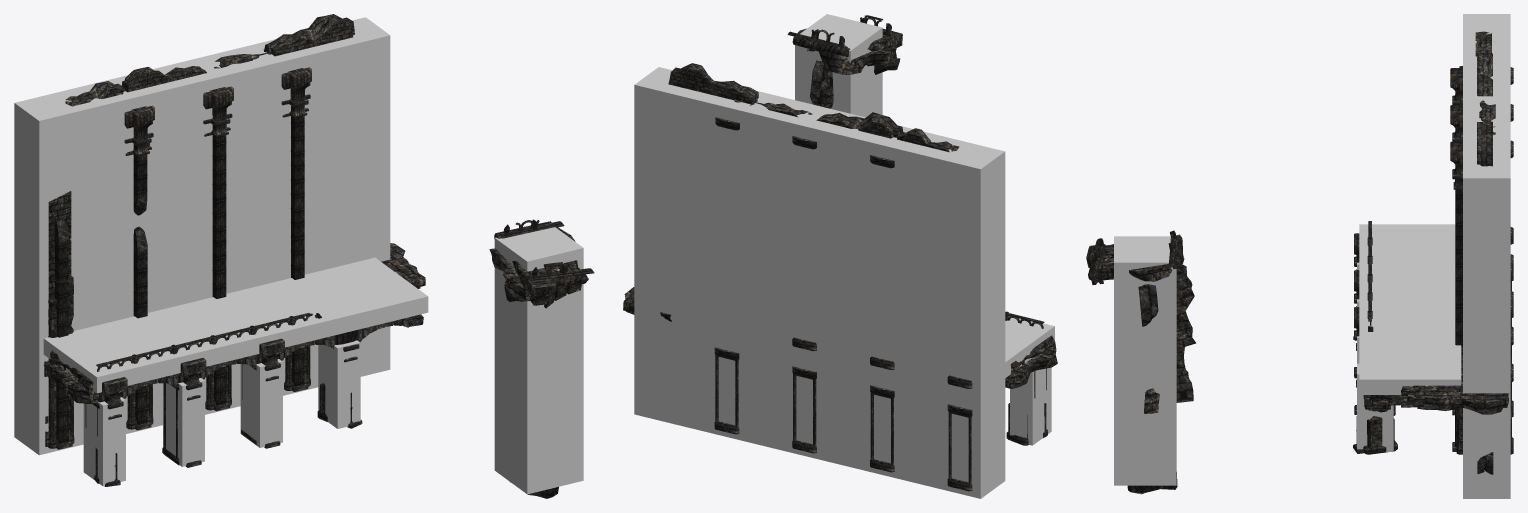
Rendered from ruins.fbx.
The picture shows the model from 3 angles, left to right: view 1: azimuth 30°, elevation 25°; view 2: azimuth 150°, elevation 25°; view 3: azimuth 270°, elevation 25°; orthographic projection. The views are drawn at different scales.
Visible parts, largest first — view 1: PHY_BOX.001, PHY_BOX.006, PHY_BOX, qishang365_com06, qishang365_com27, qishang365_com13, PHY_BOX.004, PHY_BOX.002, PHY_BOX.005, PHY_BOX.003, qishang365_com25, qishang365_com24 (+5 smaller); view 2: PHY_BOX.001, qishang365_com06, PHY_BOX, qishang365_com27, PHY_BOX.002, qishang365_com23, qishang365_com24, PHY_BOX.006, qishang365_com09; view 3: PHY_BOX.001, PHY_BOX.006, PHY_BOX, qishang365_com06, qishang365_com23, qishang365_com27, qishang365_com24, PHY_BOX.005, qishang365_com25, qishang365_com09, qishang365_com12.
Part boxes in pixels (box(x1,y1,x2,y2)): PHY_BOX.001: box(14, 17, 390, 455); PHY_BOX.006: box(43, 257, 428, 393); PHY_BOX: box(494, 227, 583, 494); qishang365_com06: box(48, 67, 359, 483); qishang365_com27: box(48, 14, 354, 439); qishang365_com13: box(55, 154, 362, 486); PHY_BOX.004: box(240, 359, 282, 447); PHY_BOX.002: box(83, 397, 125, 486); PHY_BOX.005: box(318, 340, 360, 428); PHY_BOX.003: box(163, 378, 204, 466); qishang365_com25: box(44, 273, 425, 446); qishang365_com24: box(43, 243, 420, 403); PHY_BOX.001: box(634, 67, 1005, 498); qishang365_com06: box(714, 117, 1047, 491); PHY_BOX: box(795, 14, 882, 117); qishang365_com27: box(668, 63, 959, 152); PHY_BOX.002: box(1010, 367, 1051, 445); qishang365_com23: box(797, 28, 897, 108); qishang365_com24: box(623, 287, 1057, 388); PHY_BOX.006: box(1005, 316, 1054, 377); qishang365_com09: box(788, 30, 892, 57); PHY_BOX.001: box(1463, 14, 1510, 498); PHY_BOX.006: box(1359, 224, 1461, 394); PHY_BOX: box(1114, 236, 1176, 485); qishang365_com06: box(1354, 66, 1513, 454); qishang365_com23: box(1091, 244, 1195, 413); qishang365_com27: box(1368, 31, 1495, 446); qishang365_com24: box(1383, 367, 1512, 474); PHY_BOX.005: box(1357, 363, 1393, 451); qishang365_com25: box(1363, 352, 1462, 407); qishang365_com09: box(1088, 234, 1182, 280); qishang365_com12: box(1086, 245, 1179, 494).
Bounding box in the file's own units: 1359 × 1211 × 1370.
